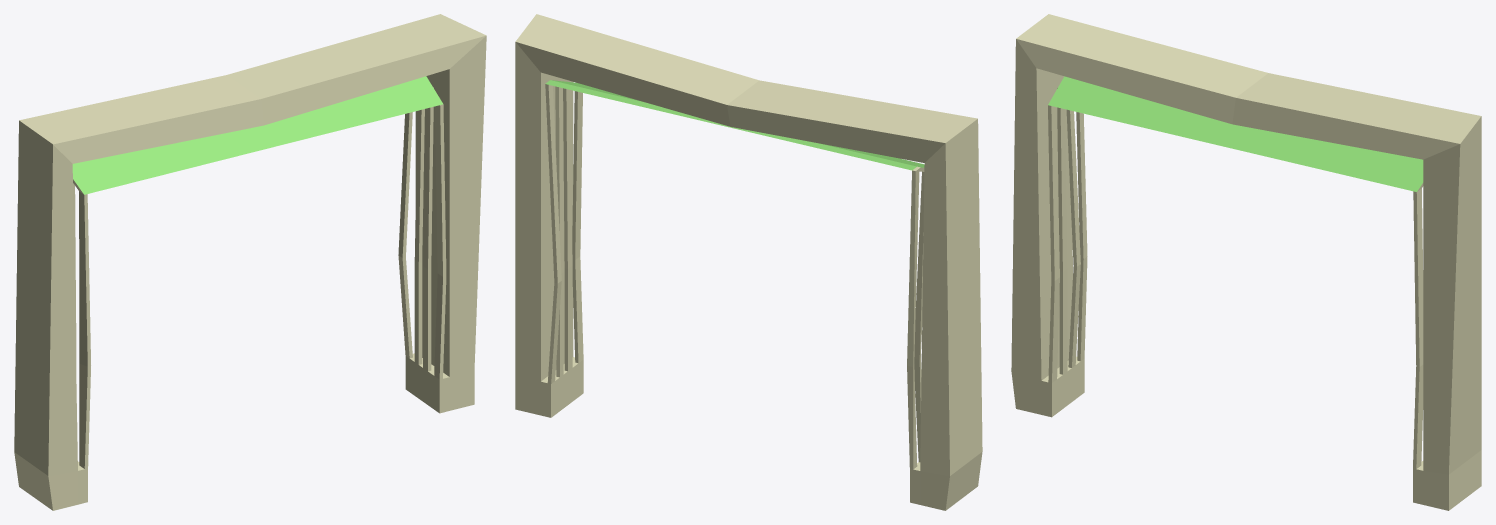
The model's file is SunScreen.fbx.
3 views of the same model, side by side, from view 1: azimuth 30°, elevation 25°; view 2: azimuth 150°, elevation 25°; view 3: azimuth 330°, elevation 25° (orthographic).
Visible parts, largest first — view 1: Cube.113; view 2: Cube.113; view 3: Cube.113.
Boxes of the visible parts, x1=… form: Cube.113: x1=14, y1=14, x2=486, y2=510; Cube.113: x1=515, y1=14, x2=982, y2=510; Cube.113: x1=1011, y1=14, x2=1481, y2=510.
Bounding box in the file's own units: 97.56 × 77.26 × 14.61.
